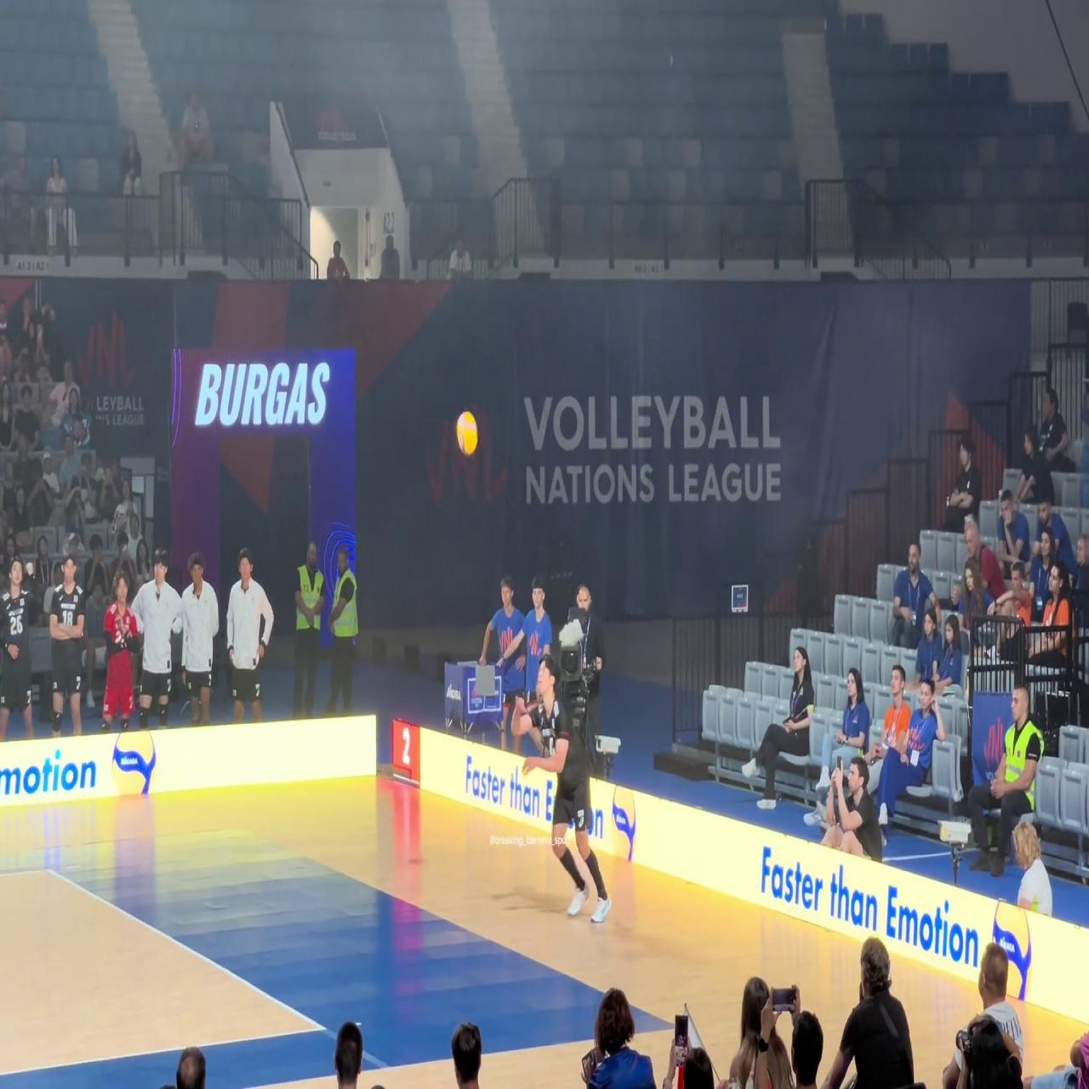ball: (457, 411, 478, 454)
